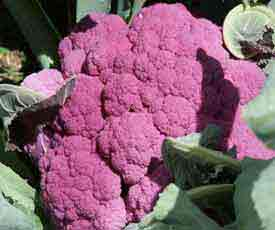cauliflower: (17, 1, 274, 229)
